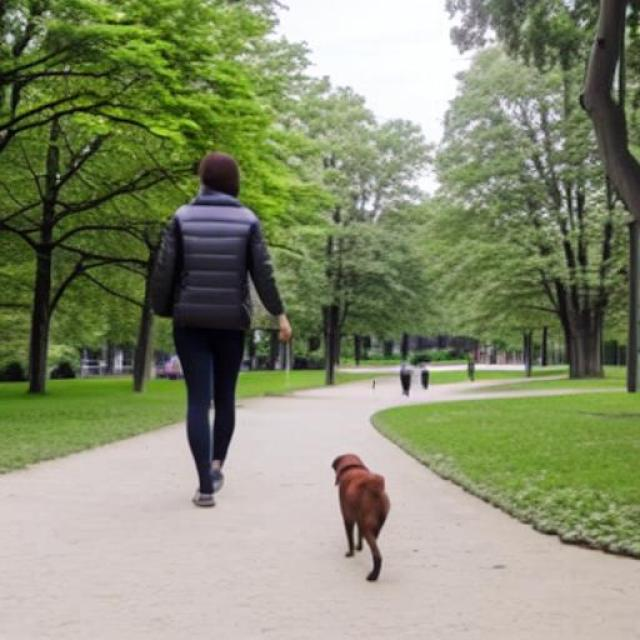Unleashed_Dog: (176, 314, 392, 582)
